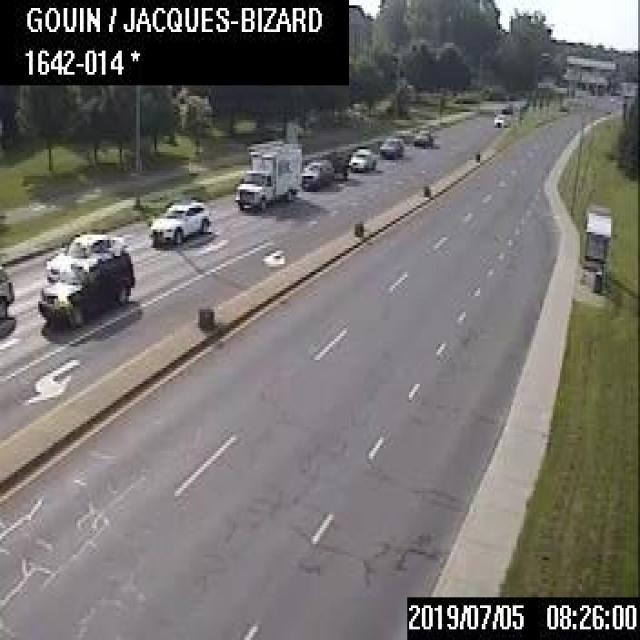vehicle: (36, 244, 133, 328), (233, 142, 301, 208), (45, 232, 124, 281), (149, 199, 208, 243), (300, 158, 332, 186), (0, 264, 15, 320), (347, 147, 376, 169), (378, 136, 402, 157), (413, 128, 431, 144), (493, 112, 506, 126)
